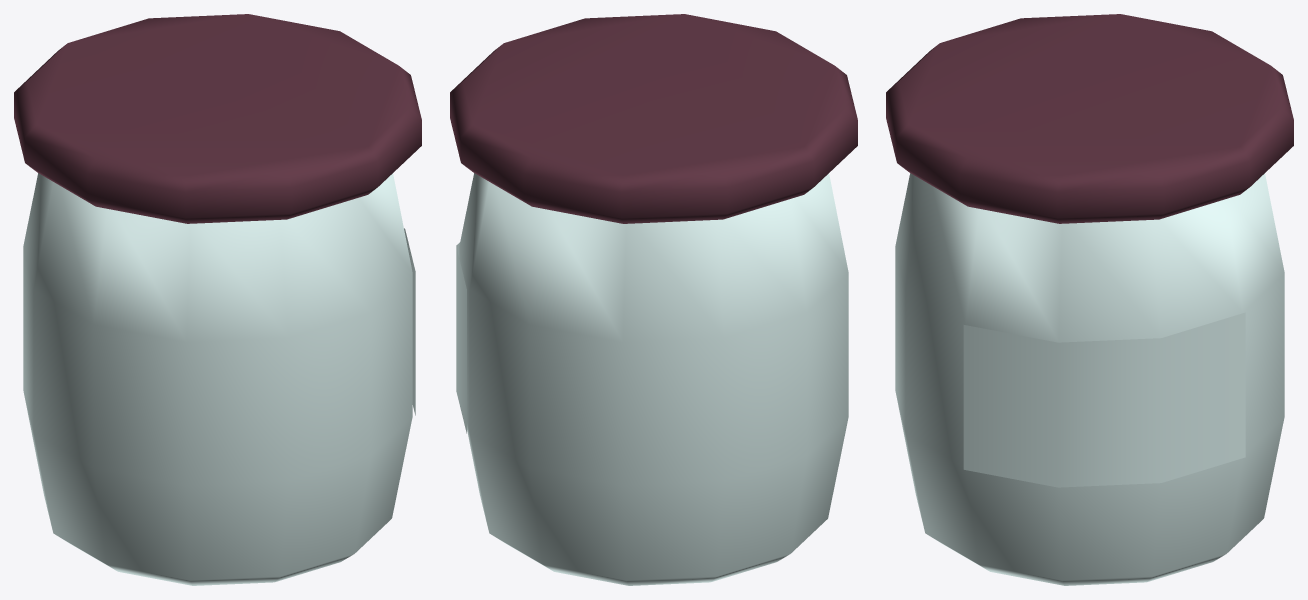
File: Blueberry Jam.fbx
3 views of the same model, side by side, from view 1: azimuth 30°, elevation 25°; view 2: azimuth 150°, elevation 25°; view 3: azimuth 270°, elevation 25° (orthographic).
Visible parts, largest first — view 1: Blueberry Jam; view 2: Blueberry Jam; view 3: Blueberry Jam.
Boxes of the visible parts, left/top/right/bottom form: Blueberry Jam: left=14, top=14, right=421, bottom=585; Blueberry Jam: left=450, top=14, right=857, bottom=585; Blueberry Jam: left=886, top=14, right=1293, bottom=585.
Bounding box in the file's own units: 18.81 × 21.63 × 18.81.
